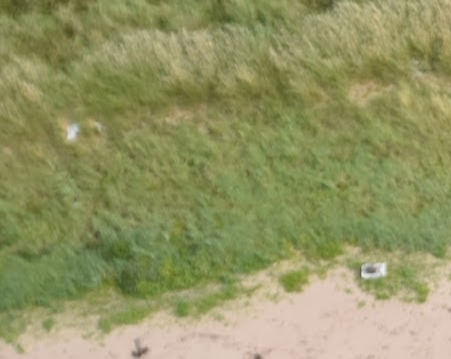cuboid: (351, 250, 398, 288)
white_in_green: (51, 114, 93, 150)
